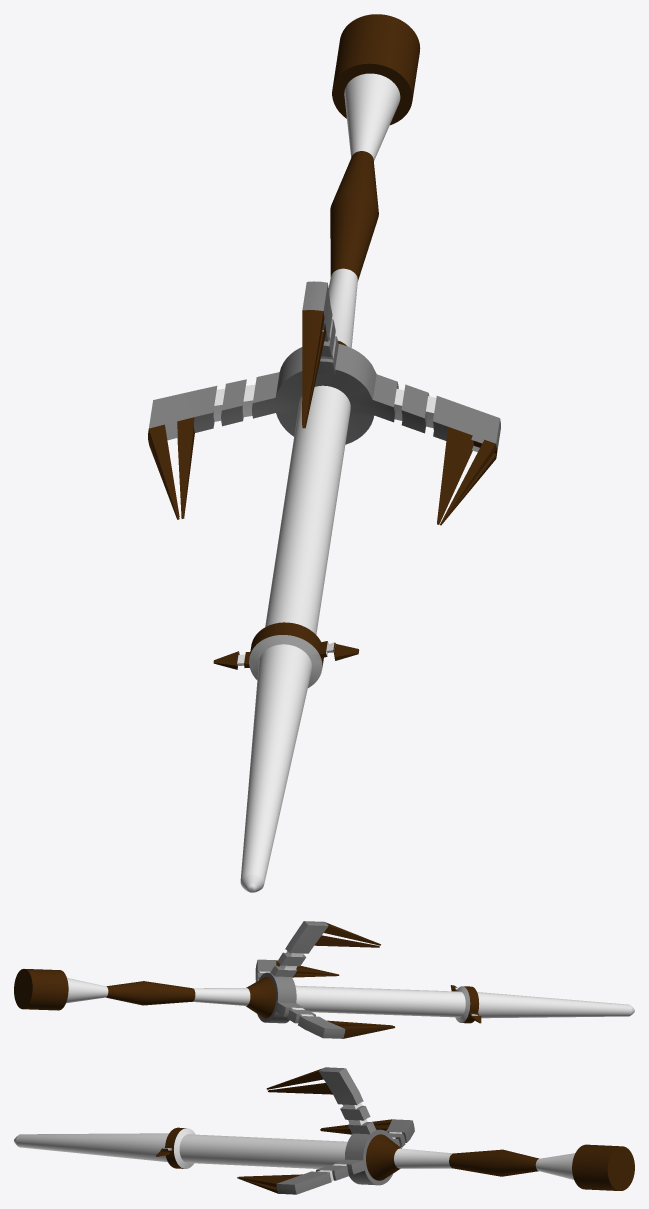
Rendered from sword_animation.fbx.
The picture shows the model from 3 angles, top to bottom: view 1: azimuth 30°, elevation 25°; view 2: azimuth 150°, elevation 25°; view 3: azimuth 270°, elevation 25°; orthographic projection. The views are drawn at different scales.
Visible parts, largest first — view 1: Cylinder; view 2: Cylinder; view 3: Cylinder.
Part boxes in pixels (x1=…): Cylinder: x1=148, y1=14, x2=500, y2=892; Cylinder: x1=14, y1=921, x2=634, y2=1038; Cylinder: x1=14, y1=1067, x2=634, y2=1194.
Bounding box in the file's own units: 827 × 361 × 1134.
